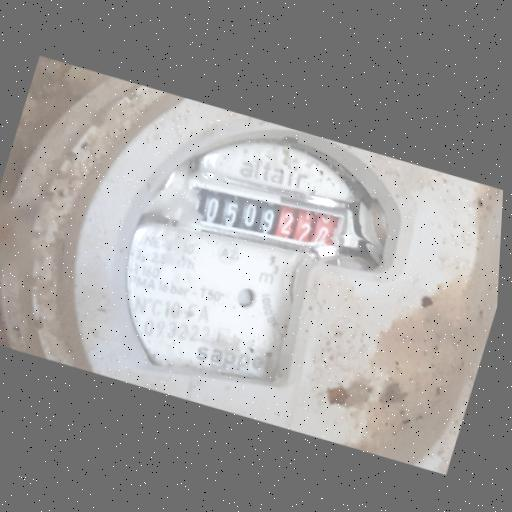0: (199, 187, 229, 226), (237, 196, 265, 233), (311, 212, 337, 247)
1: (294, 207, 320, 244)
2: (273, 203, 300, 240)
5: (218, 192, 246, 230)
9: (255, 200, 282, 236)
border_water_meter_number: (183, 174, 348, 261)
